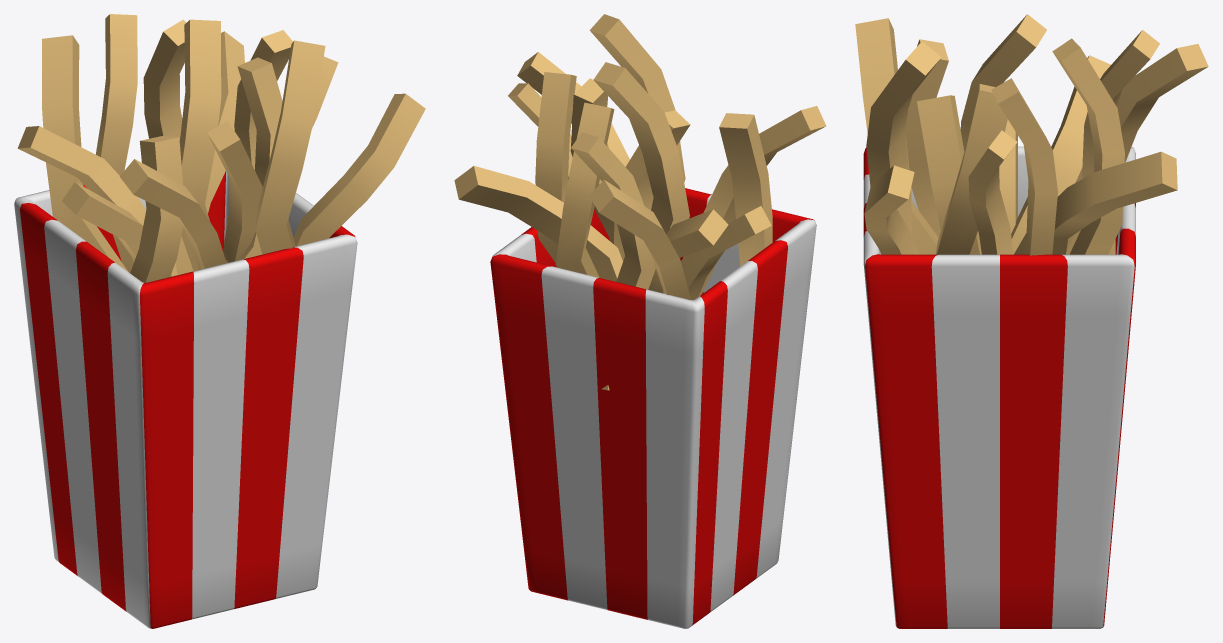
The model's file is FbxFries.fbx.
The picture shows the model from 3 angles, left to right: view 1: azimuth 30°, elevation 25°; view 2: azimuth 150°, elevation 25°; view 3: azimuth 270°, elevation 25°; orthographic projection. The views are drawn at different scales.
Visible parts, largest first — view 1: HIGH_POLY:HAMBURGUER:hamburgueseriaBackup1:pCube43, HIGH_POLY:HAMBURGUER:hamburgueseriaBackup1:pCube53, HIGH_POLY:HAMBURGUER:hamburgueseriaBackup1:pCube52, HIGH_POLY:HAMBURGUER:hamburgueseriaBackup1:pCube57, HIGH_POLY:HAMBURGUER:hamburgueseriaBackup1:pCube49, HIGH_POLY:HAMBURGUER:hamburgueseriaBackup1:pCube56, HIGH_POLY:HAMBURGUER:hamburgueseriaBackup1:pCube51, HIGH_POLY:HAMBURGUER:hamburgueseriaBackup1:pCube45, HIGH_POLY:HAMBURGUER:hamburgueseriaBackup1:pCube46, HIGH_POLY:HAMBURGUER:hamburgueseriaBackup1:pCube50, HIGH_POLY:HAMBURGUER:hamburgueseriaBackup1:pCube54, HIGH_POLY:HAMBURGUER:hamburgueseriaBackup1:pCube47 (+4 smaller); view 2: HIGH_POLY:HAMBURGUER:hamburgueseriaBackup1:pCube43, HIGH_POLY:HAMBURGUER:hamburgueseriaBackup1:pCube52, HIGH_POLY:HAMBURGUER:hamburgueseriaBackup1:pCube48, HIGH_POLY:HAMBURGUER:hamburgueseriaBackup1:pCube51, HIGH_POLY:HAMBURGUER:hamburgueseriaBackup1:pCube54, HIGH_POLY:HAMBURGUER:hamburgueseriaBackup1:pCube55, HIGH_POLY:HAMBURGUER:hamburgueseriaBackup1:pCube49, HIGH_POLY:HAMBURGUER:hamburgueseriaBackup1:pCube56, HIGH_POLY:HAMBURGUER:hamburgueseriaBackup1:pCube53, HIGH_POLY:HAMBURGUER:hamburgueseriaBackup1:pCube46, HIGH_POLY:HAMBURGUER:hamburgueseriaBackup1:pCube44, HIGH_POLY:HAMBURGUER:hamburgueseriaBackup1:pCube45 (+4 smaller); view 3: HIGH_POLY:HAMBURGUER:hamburgueseriaBackup1:pCube43, HIGH_POLY:HAMBURGUER:hamburgueseriaBackup1:pCube48, HIGH_POLY:HAMBURGUER:hamburgueseriaBackup1:pCube54, HIGH_POLY:HAMBURGUER:hamburgueseriaBackup1:pCube55, HIGH_POLY:HAMBURGUER:hamburgueseriaBackup1:pCube53, HIGH_POLY:HAMBURGUER:hamburgueseriaBackup1:pCube47, HIGH_POLY:HAMBURGUER:hamburgueseriaBackup1:pCube49, HIGH_POLY:HAMBURGUER:hamburgueseriaBackup1:pCube50, HIGH_POLY:HAMBURGUER:hamburgueseriaBackup1:pCube46, HIGH_POLY:HAMBURGUER:hamburgueseriaBackup1:pCube58, HIGH_POLY:HAMBURGUER:hamburgueseriaBackup1:pCube57, HIGH_POLY:HAMBURGUER:hamburgueseriaBackup1:pCube51 (+4 smaller).
Part boxes in pixels (box(x1,y1,x2,y2)): HIGH_POLY:HAMBURGUER:hamburgueseriaBackup1:pCube43: box(14, 171, 357, 628); HIGH_POLY:HAMBURGUER:hamburgueseriaBackup1:pCube53: box(255, 40, 325, 254); HIGH_POLY:HAMBURGUER:hamburgueseriaBackup1:pCube52: box(179, 19, 221, 271); HIGH_POLY:HAMBURGUER:hamburgueseriaBackup1:pCube57: box(293, 93, 425, 246); HIGH_POLY:HAMBURGUER:hamburgueseriaBackup1:pCube49: box(42, 35, 128, 271); HIGH_POLY:HAMBURGUER:hamburgueseriaBackup1:pCube56: box(95, 14, 137, 272); HIGH_POLY:HAMBURGUER:hamburgueseriaBackup1:pCube51: box(130, 135, 183, 282); HIGH_POLY:HAMBURGUER:hamburgueseriaBackup1:pCube45: box(17, 126, 177, 276); HIGH_POLY:HAMBURGUER:hamburgueseriaBackup1:pCube46: box(119, 159, 226, 270); HIGH_POLY:HAMBURGUER:hamburgueseriaBackup1:pCube50: box(207, 121, 262, 262); HIGH_POLY:HAMBURGUER:hamburgueseriaBackup1:pCube54: box(143, 19, 186, 139); HIGH_POLY:HAMBURGUER:hamburgueseriaBackup1:pCube47: box(226, 57, 282, 262); HIGH_POLY:HAMBURGUER:hamburgueseriaBackup1:pCube43: box(490, 188, 816, 628); HIGH_POLY:HAMBURGUER:hamburgueseriaBackup1:pCube52: box(593, 62, 689, 233); HIGH_POLY:HAMBURGUER:hamburgueseriaBackup1:pCube48: box(454, 166, 622, 281); HIGH_POLY:HAMBURGUER:hamburgueseriaBackup1:pCube51: box(719, 113, 772, 265); HIGH_POLY:HAMBURGUER:hamburgueseriaBackup1:pCube54: box(555, 102, 614, 277); HIGH_POLY:HAMBURGUER:hamburgueseriaBackup1:pCube55: box(535, 72, 576, 262); HIGH_POLY:HAMBURGUER:hamburgueseriaBackup1:pCube49: box(589, 179, 690, 299); HIGH_POLY:HAMBURGUER:hamburgueseriaBackup1:pCube56: box(571, 132, 655, 390); HIGH_POLY:HAMBURGUER:hamburgueseriaBackup1:pCube53: box(589, 14, 685, 210); HIGH_POLY:HAMBURGUER:hamburgueseriaBackup1:pCube46: box(683, 106, 826, 296); HIGH_POLY:HAMBURGUER:hamburgueseriaBackup1:pCube44: box(681, 206, 771, 299); HIGH_POLY:HAMBURGUER:hamburgueseriaBackup1:pCube45: box(648, 209, 728, 293); HIGH_POLY:HAMBURGUER:hamburgueseriaBackup1:pCube43: box(863, 146, 1135, 628); HIGH_POLY:HAMBURGUER:hamburgueseriaBackup1:pCube48: box(1052, 151, 1177, 254); HIGH_POLY:HAMBURGUER:hamburgueseriaBackup1:pCube54: box(1052, 38, 1124, 254); HIGH_POLY:HAMBURGUER:hamburgueseriaBackup1:pCube55: box(991, 78, 1057, 255); HIGH_POLY:HAMBURGUER:hamburgueseriaBackup1:pCube53: box(866, 41, 941, 254); HIGH_POLY:HAMBURGUER:hamburgueseriaBackup1:pCube47: box(935, 84, 1007, 254); HIGH_POLY:HAMBURGUER:hamburgueseriaBackup1:pCube49: box(1066, 44, 1208, 254); HIGH_POLY:HAMBURGUER:hamburgueseriaBackup1:pCube50: box(917, 95, 981, 254); HIGH_POLY:HAMBURGUER:hamburgueseriaBackup1:pCube46: box(855, 18, 938, 254); HIGH_POLY:HAMBURGUER:hamburgueseriaBackup1:pCube58: box(968, 130, 1017, 254); HIGH_POLY:HAMBURGUER:hamburgueseriaBackup1:pCube57: box(864, 165, 919, 254); HIGH_POLY:HAMBURGUER:hamburgueseriaBackup1:pCube51: box(905, 39, 948, 237).
Size of the model in its own units: 10.5 by 17.87 by 9.82.
